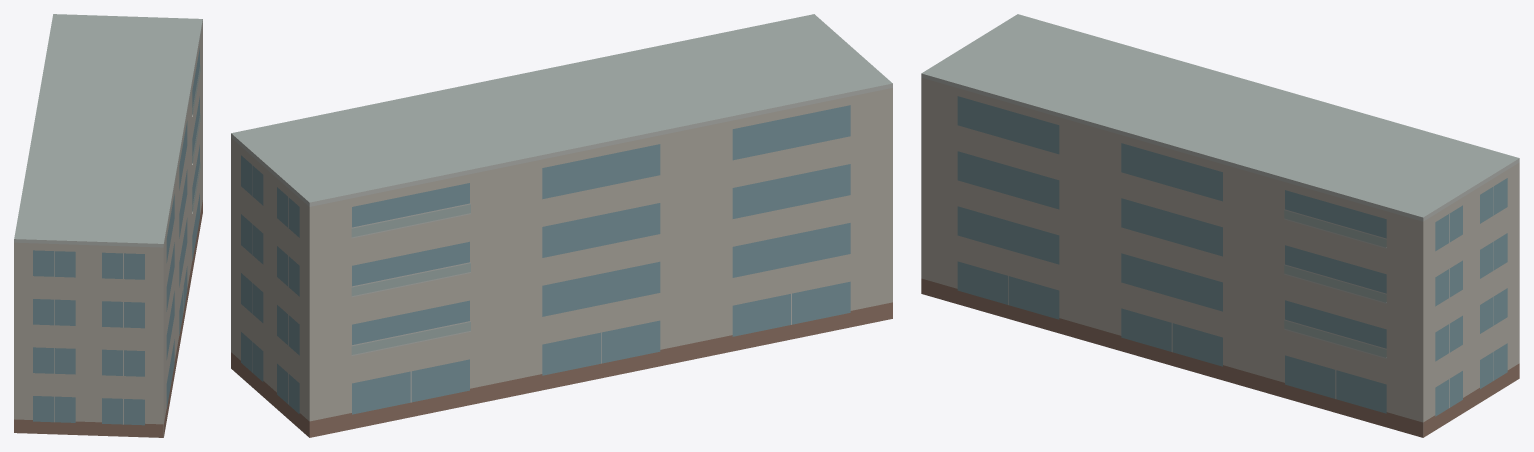
Rendered from survey-upis-32798480.glb.
The picture shows the model from 3 angles, left to right: view 1: azimuth 30°, elevation 25°; view 2: azimuth 150°, elevation 25°; view 3: azimuth 270°, elevation 25°; orthographic projection. The views are drawn at different scales.
Visible parts, largest first — view 1: survey-upis-32798480.tmp; view 2: survey-upis-32798480.tmp; view 3: survey-upis-32798480.tmp.
Part boxes in pixels (box(x1,y1,x2,y2)): survey-upis-32798480.tmp: box(14, 14, 202, 437); survey-upis-32798480.tmp: box(231, 14, 892, 437); survey-upis-32798480.tmp: box(921, 14, 1519, 437).
Size of the model in its own units: 25.96 by 13.1 by 32.25.
